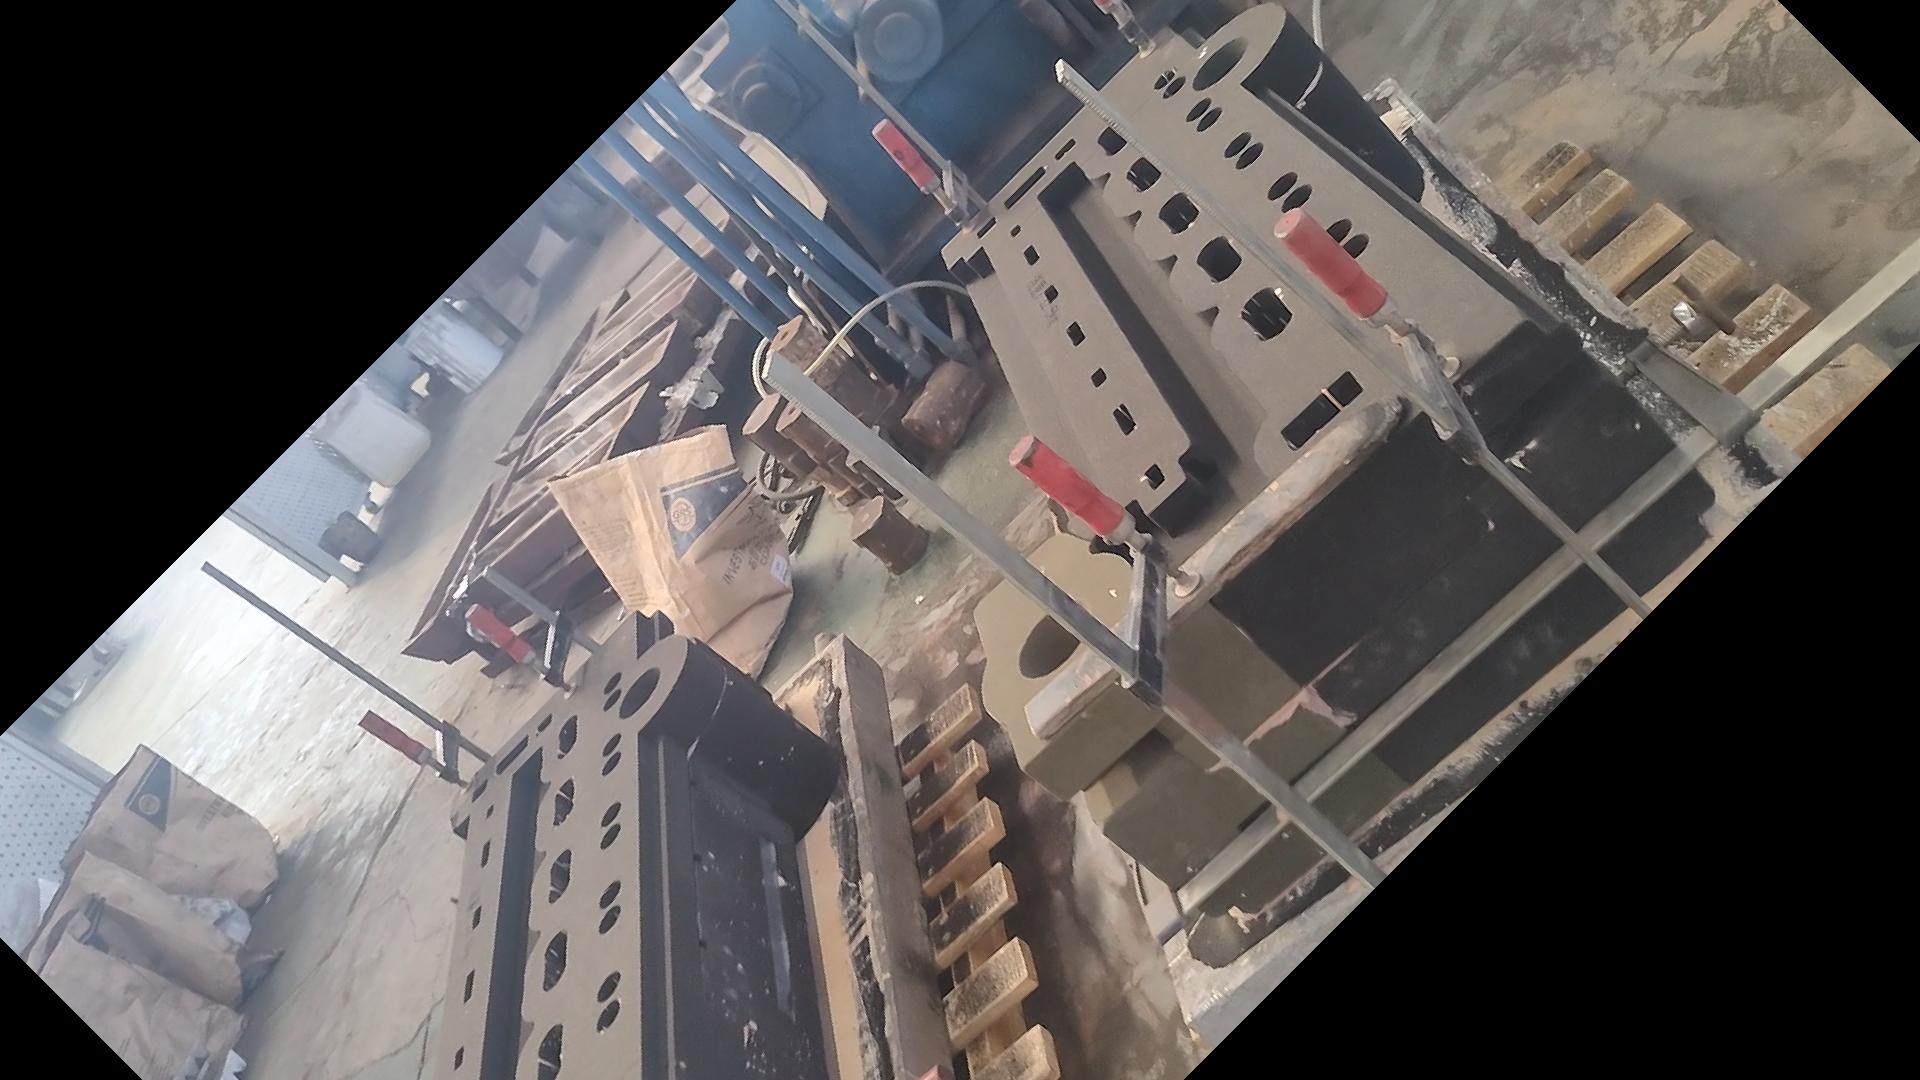pouring hole: (1019, 599, 1084, 679), (1189, 34, 1249, 91), (618, 667, 661, 719)
